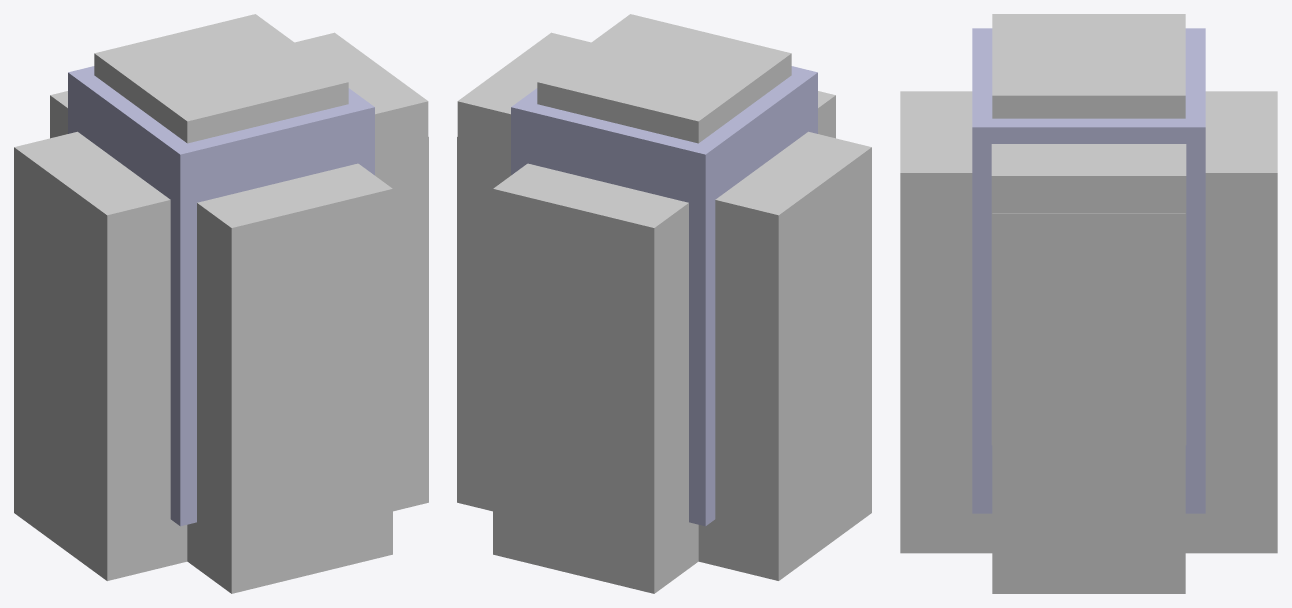
Rendered from assembly.fbx.
3 views of the same model, side by side, from view 1: azimuth 30°, elevation 25°; view 2: azimuth 150°, elevation 25°; view 3: azimuth 270°, elevation 25° (orthographic). The views are drawn at different scales.
Parts seen in each view (by area): view 1: Cube.002, Frame, Cube.001, Cube; view 2: Cube.002, Frame, Cube.001, Cube; view 3: Cube.002, Frame, Cube.001, Cube.
Part boxes in pixels (box(x1,y1,x2,y2)): Cube.002: box(14, 91, 428, 593); Frame: box(68, 66, 374, 526); Cube.001: box(94, 14, 348, 143); Cube: box(295, 32, 428, 368); Cube.002: box(457, 91, 871, 593); Frame: box(511, 66, 817, 526); Cube.001: box(537, 14, 791, 143); Cube: box(457, 32, 590, 368); Cube.002: box(900, 91, 1277, 593); Frame: box(972, 28, 1205, 513); Cube.001: box(992, 14, 1185, 118); Cube: box(991, 144, 1186, 444).
Bounding box in the file's own units: 331 × 432 × 323.
